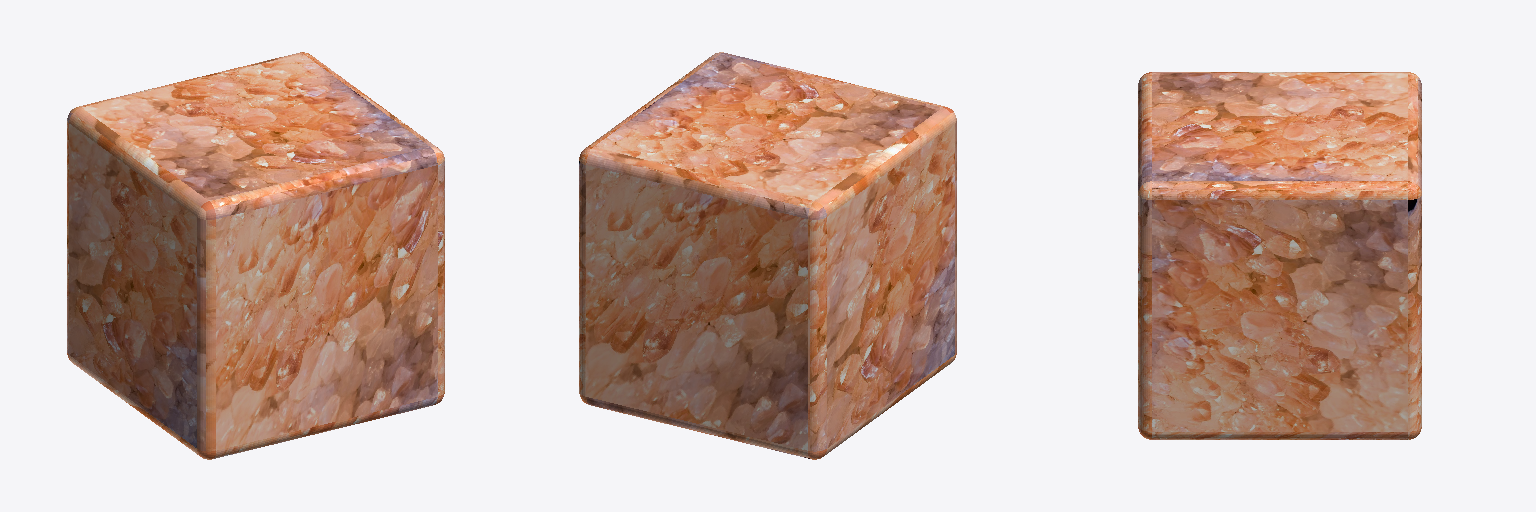
The picture shows the model from 3 angles: view 1: azimuth 30°, elevation 25°; view 2: azimuth 150°, elevation 25°; view 3: azimuth 270°, elevation 25°; orthographic projection.
Visible parts, largest first — view 1: Cube; view 2: Cube; view 3: Cube.
Boxes of the visible parts, <box> form: Cube: <box>67,52,444,459</box>; Cube: <box>579,52,956,459</box>; Cube: <box>1138,72,1421,439</box>.
Size of the model in its own units: 2 by 2 by 2.
Materials: 1 (1 with a texture image).